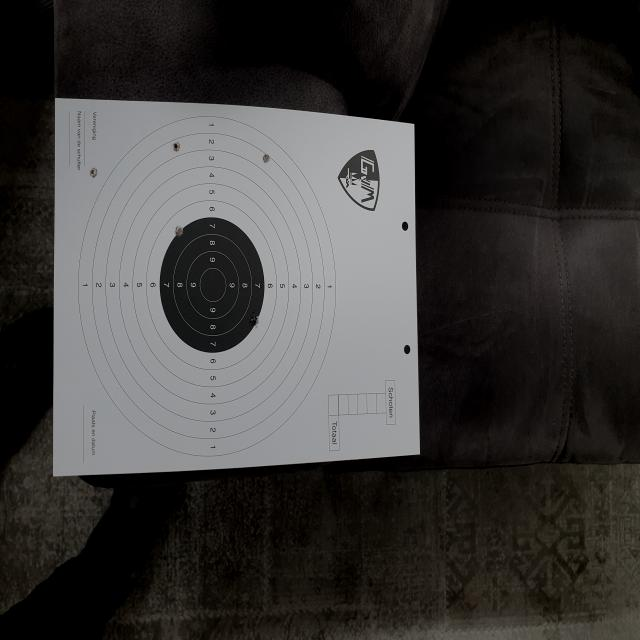0: (90, 168, 98, 178)
2: (172, 142, 181, 152), (263, 154, 270, 164)
7: (250, 312, 260, 328), (175, 226, 183, 237)
Target: (78, 116, 336, 458)
black_contour: (160, 218, 265, 353)
